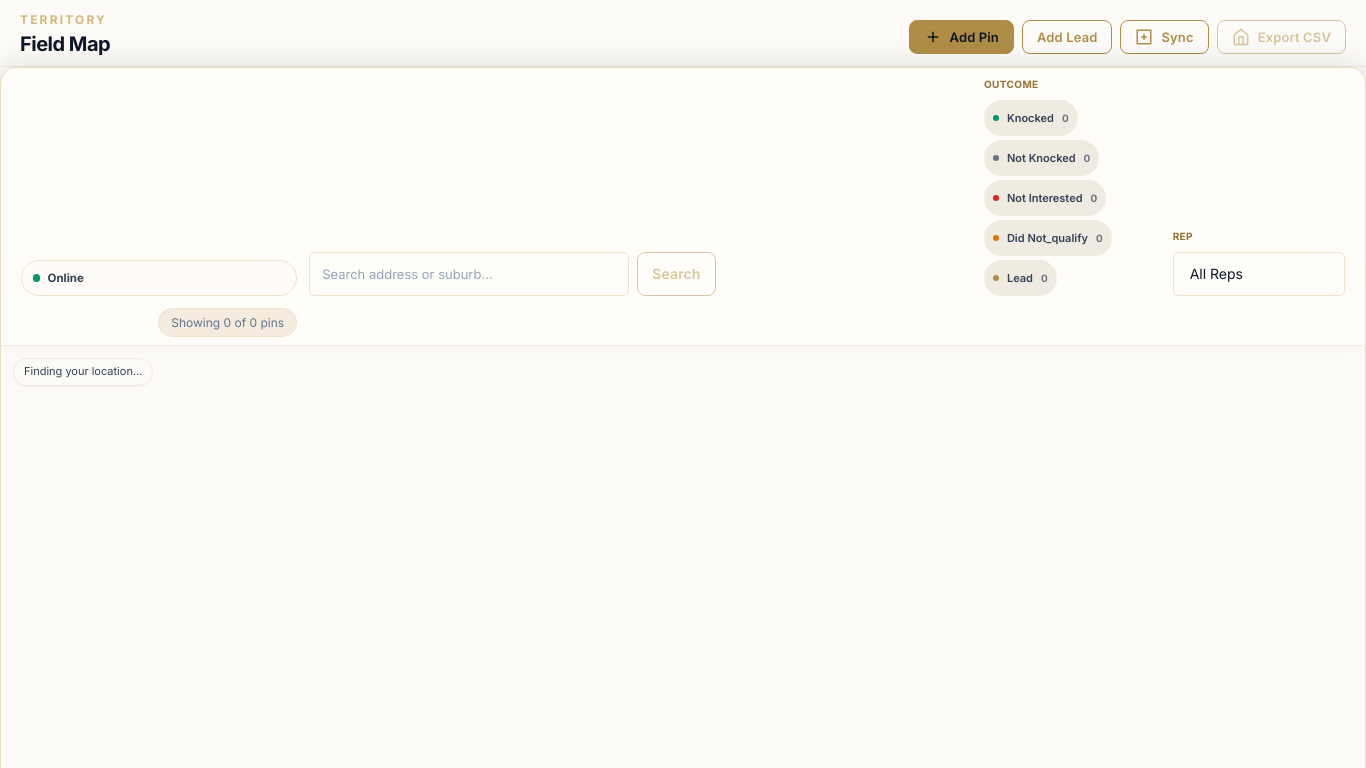
it: MapPage - Add Pin Workflow › should enter placement mode when ADD PIN button is clicked
Click the button "Add Pin" at (961, 37), box x1=908 y1=20 x2=1014 y2=54
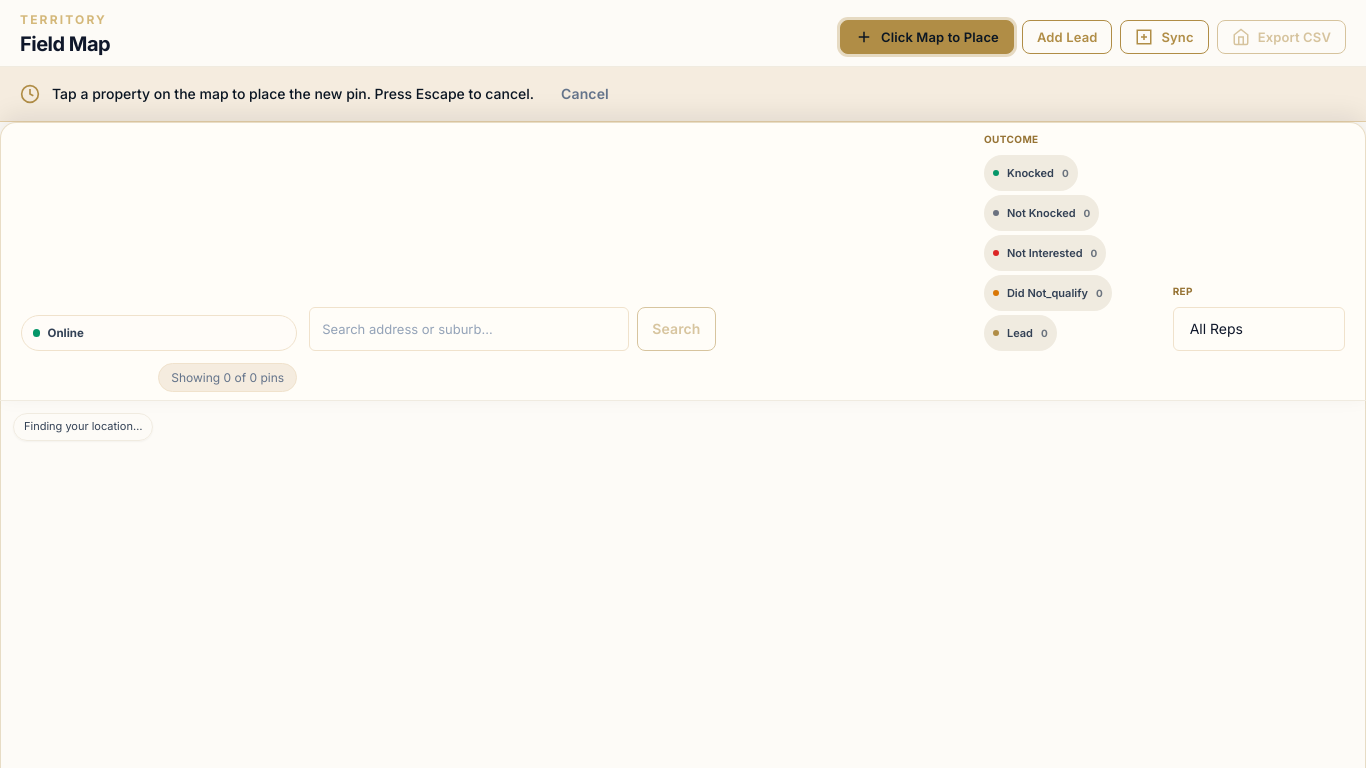
Check: the text "Tap a property on the map to place the new pin" is shown, box x1=52 y1=85 x2=534 y2=102
Check: the button "Click Map to Place" is shown, box x1=840 y1=20 x2=1014 y2=54
